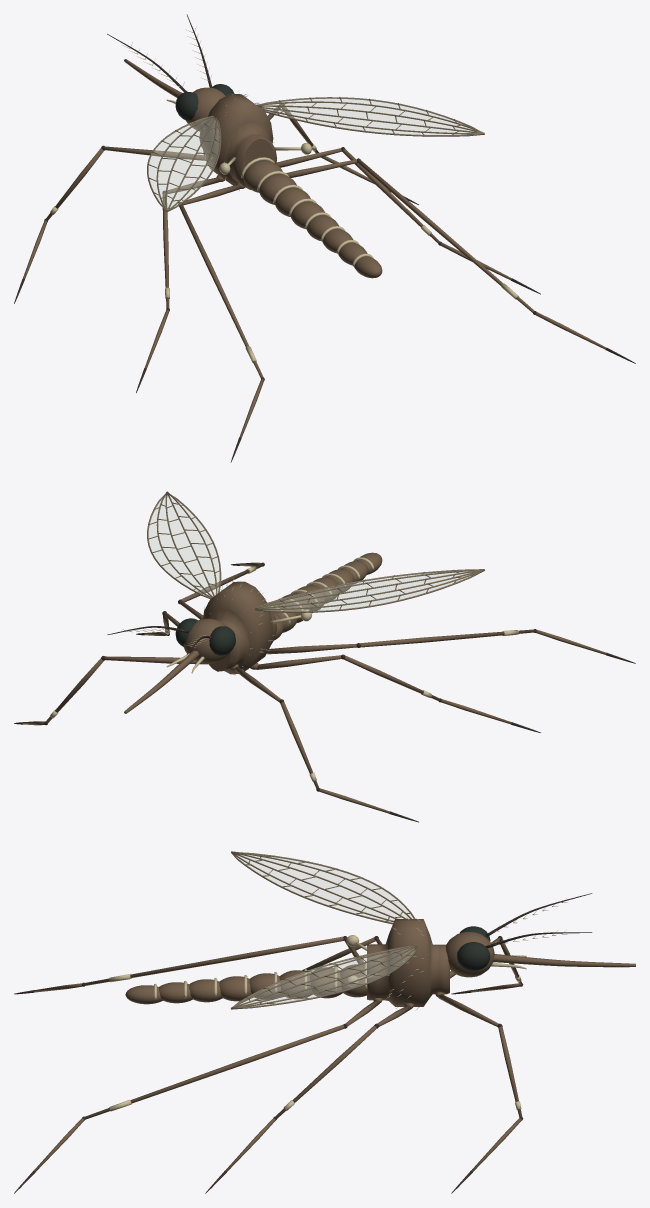
The model's file is Mosquito.fbx.
3 views of the same model, one above another, from view 1: azimuth 30°, elevation 25°; view 2: azimuth 150°, elevation 25°; view 3: azimuth 270°, elevation 25° (orthographic).
Parts seen in each view (by area): view 1: Material group Mosquito_BrownCuticle, Material group Mosquito_WingMembrane, Material group Mosquito_WingScales, Material group Mosquito_CreamScaleBands, Material group Mosquito_DarkJoints, Material group Mosquito_Eyes; view 2: Material group Mosquito_BrownCuticle, Material group Mosquito_WingMembrane, Material group Mosquito_WingScales, Material group Mosquito_CreamScaleBands, Material group Mosquito_Eyes, Material group Mosquito_DarkJoints; view 3: Material group Mosquito_BrownCuticle, Material group Mosquito_WingMembrane, Material group Mosquito_WingScales, Material group Mosquito_CreamScaleBands, Material group Mosquito_DarkJoints, Material group Mosquito_Eyes.
Boxes of the visible parts, x1=… form: Material group Mosquito_BrownCuticle: x1=23, y1=59, x2=606, y2=437; Material group Mosquito_WingMembrane: x1=149, y1=98, x2=473, y2=207; Material group Mosquito_WingScales: x1=147, y1=97, x2=484, y2=211; Material group Mosquito_CreamScaleBands: x1=50, y1=26, x2=518, y2=363; Material group Mosquito_DarkJoints: x1=14, y1=14, x2=635, y2=462; Material group Mosquito_Eyes: x1=175, y1=84, x2=234, y2=120; Material group Mosquito_BrownCuticle: x1=22, y1=552, x2=606, y2=813; Material group Mosquito_WingMembrane: x1=148, y1=495, x2=470, y2=610; Material group Mosquito_WingScales: x1=147, y1=491, x2=484, y2=612; Material group Mosquito_CreamScaleBands: x1=50, y1=557, x2=518, y2=781; Material group Mosquito_Eyes: x1=175, y1=618, x2=235, y2=655; Material group Mosquito_DarkJoints: x1=14, y1=562, x2=635, y2=822; Material group Mosquito_BrownCuticle: x1=33, y1=919, x2=635, y2=1171; Material group Mosquito_WingMembrane: x1=237, y1=854, x2=414, y2=1006; Material group Mosquito_WingScales: x1=231, y1=851, x2=417, y2=1009; Material group Mosquito_CreamScaleBands: x1=109, y1=898, x2=567, y2=1111; Material group Mosquito_DarkJoints: x1=14, y1=893, x2=592, y2=1193; Material group Mosquito_Eyes: x1=457, y1=926, x2=490, y2=970.
Bounding box in the file's own units: 0.759 × 0.3215 × 1.
